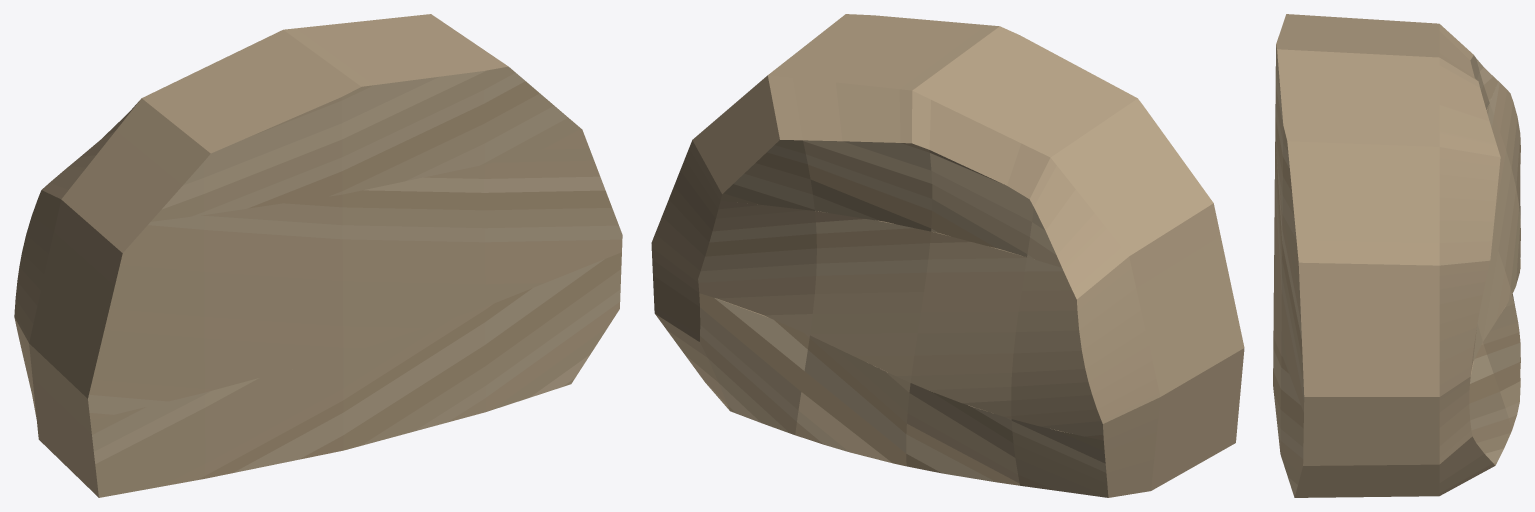
File: cross-bedded-sandstone.glb
3 views of the same model, side by side, from view 1: azimuth 30°, elevation 25°; view 2: azimuth 150°, elevation 25°; view 3: azimuth 270°, elevation 25° (orthographic). The views are drawn at different scales.
Visible parts, largest first — view 1: crossbed-set-2, crossbed-set-3, crossbed-set-1; view 2: crossbed-set-2, crossbed-set-3, crossbed-set-1; view 3: crossbed-set-3, crossbed-set-2, crossbed-set-1.
Part boxes in pixels (x1,y1,x2,y2): crossbed-set-2: (14, 138, 622, 420); crossbed-set-3: (69, 14, 585, 221); crossbed-set-1: (19, 252, 621, 497); crossbed-set-2: (651, 148, 1244, 440); crossbed-set-3: (689, 14, 1189, 267); crossbed-set-1: (652, 259, 1242, 497); crossbed-set-3: (1275, 14, 1500, 275); crossbed-set-2: (1273, 81, 1520, 412); crossbed-set-1: (1273, 259, 1520, 497).
Bounding box in the file's own units: 0.81 × 0.515 × 0.335.
